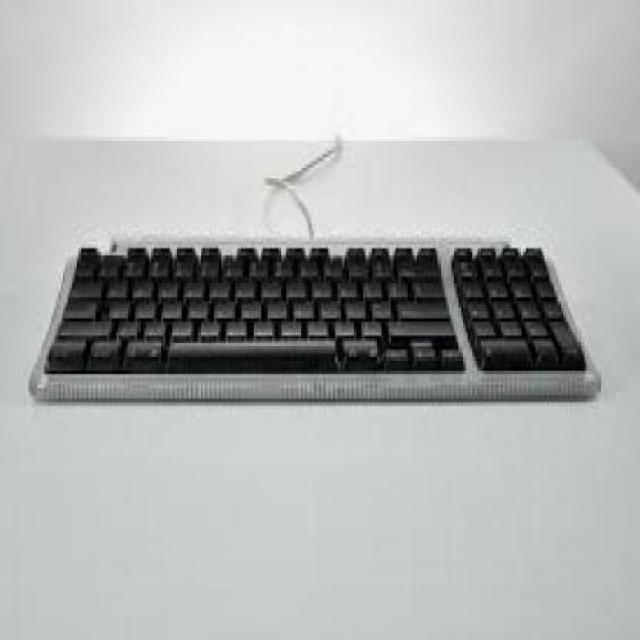keyboard: (24, 236, 607, 395)
